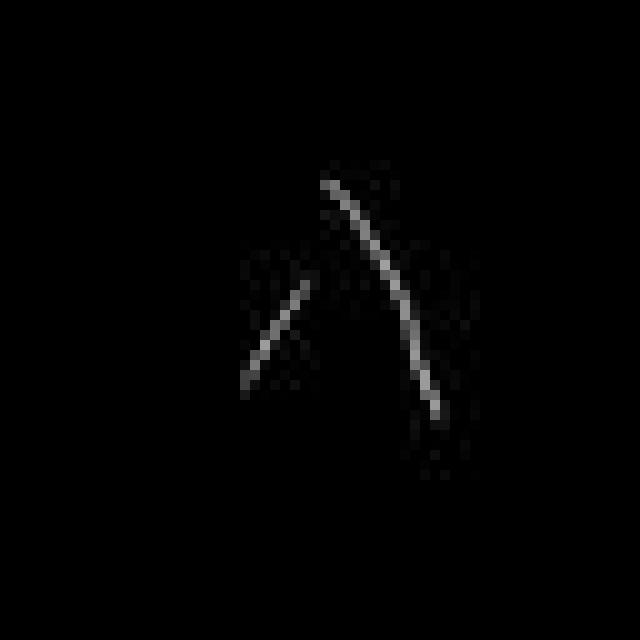8 -eight-: (224, 174, 455, 438)
